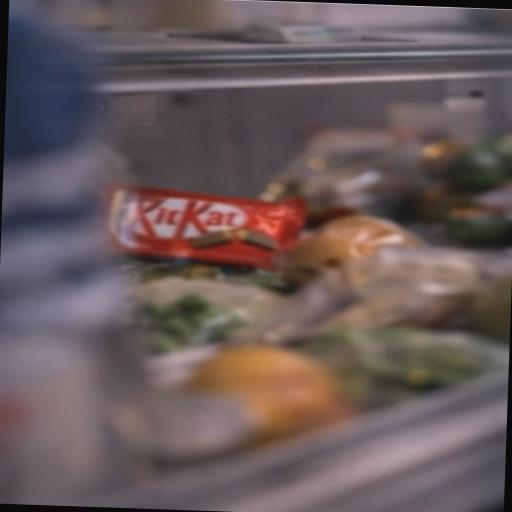kitkat: (35, 150, 380, 308)
